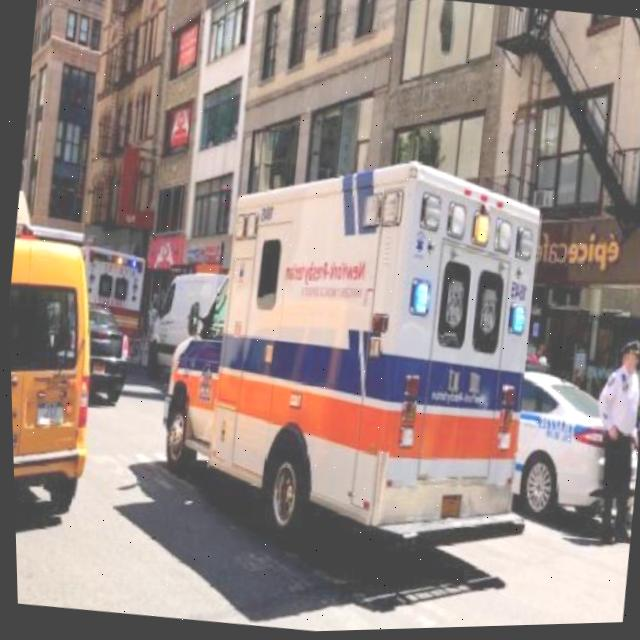emergency: (139, 131, 564, 571)
